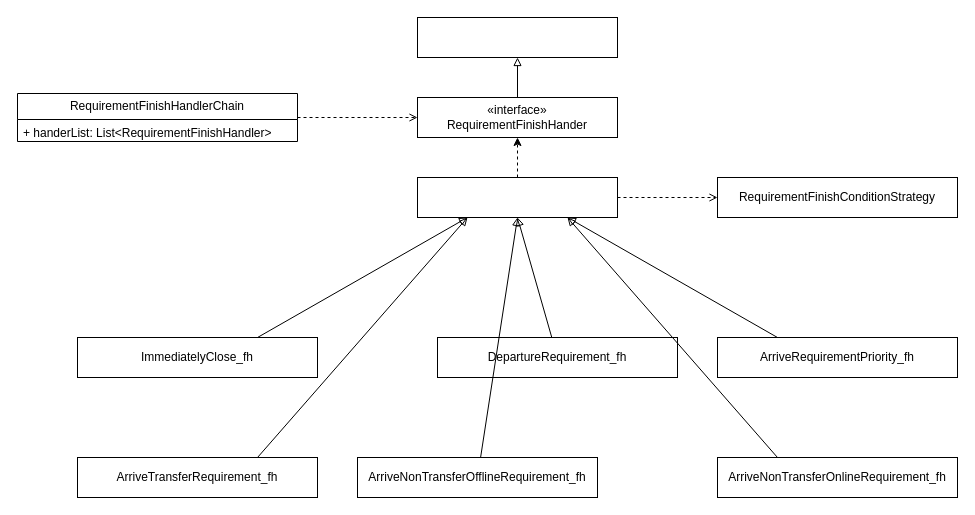
The diagram is 975 pixels wide and 515 high, and some of its shapes have lost their labels. The shapes that lost their labels are listed below. From the top down, each one's centre as x and y in pixels, then its label:
point (517, 37): «interface» Ordered
point (517, 197): «abstract» AbstractRequirementFinishHander
